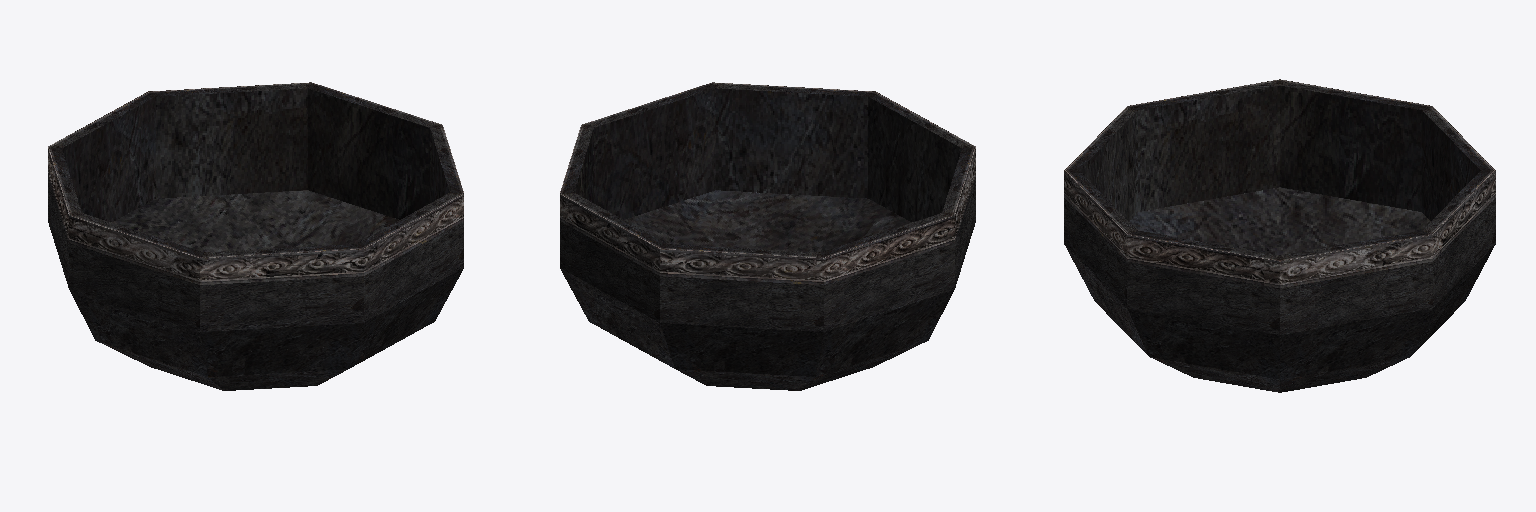
3 renders of one model, left to right at view 1: azimuth 30°, elevation 25°; view 2: azimuth 150°, elevation 25°; view 3: azimuth 270°, elevation 25°, orthographic.
Visible parts, largest first — view 1: Default_Layer; view 2: Default_Layer; view 3: Default_Layer.
Boxes of the visible parts, box(x1,y1,x2,y2) form: Default_Layer: box(48, 82, 463, 390); Default_Layer: box(560, 82, 975, 390); Default_Layer: box(1064, 79, 1495, 392).
Bounding box in the file's own units: 1.28 × 0.5579 × 1.28.
1 materials, 1 textured.